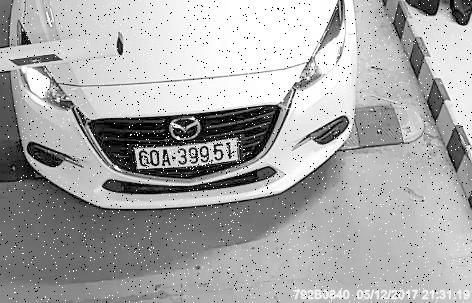License-plate: (125, 132, 242, 176)
